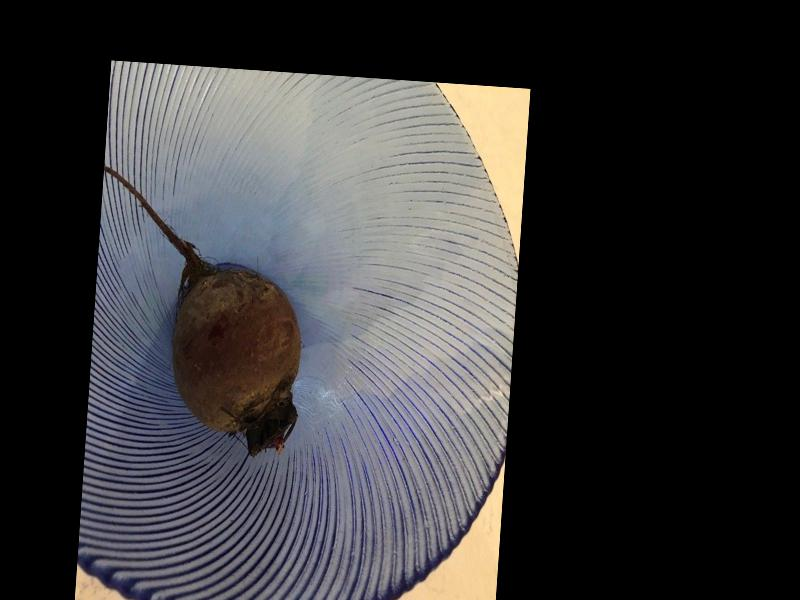Beet: (85, 167, 312, 458)
